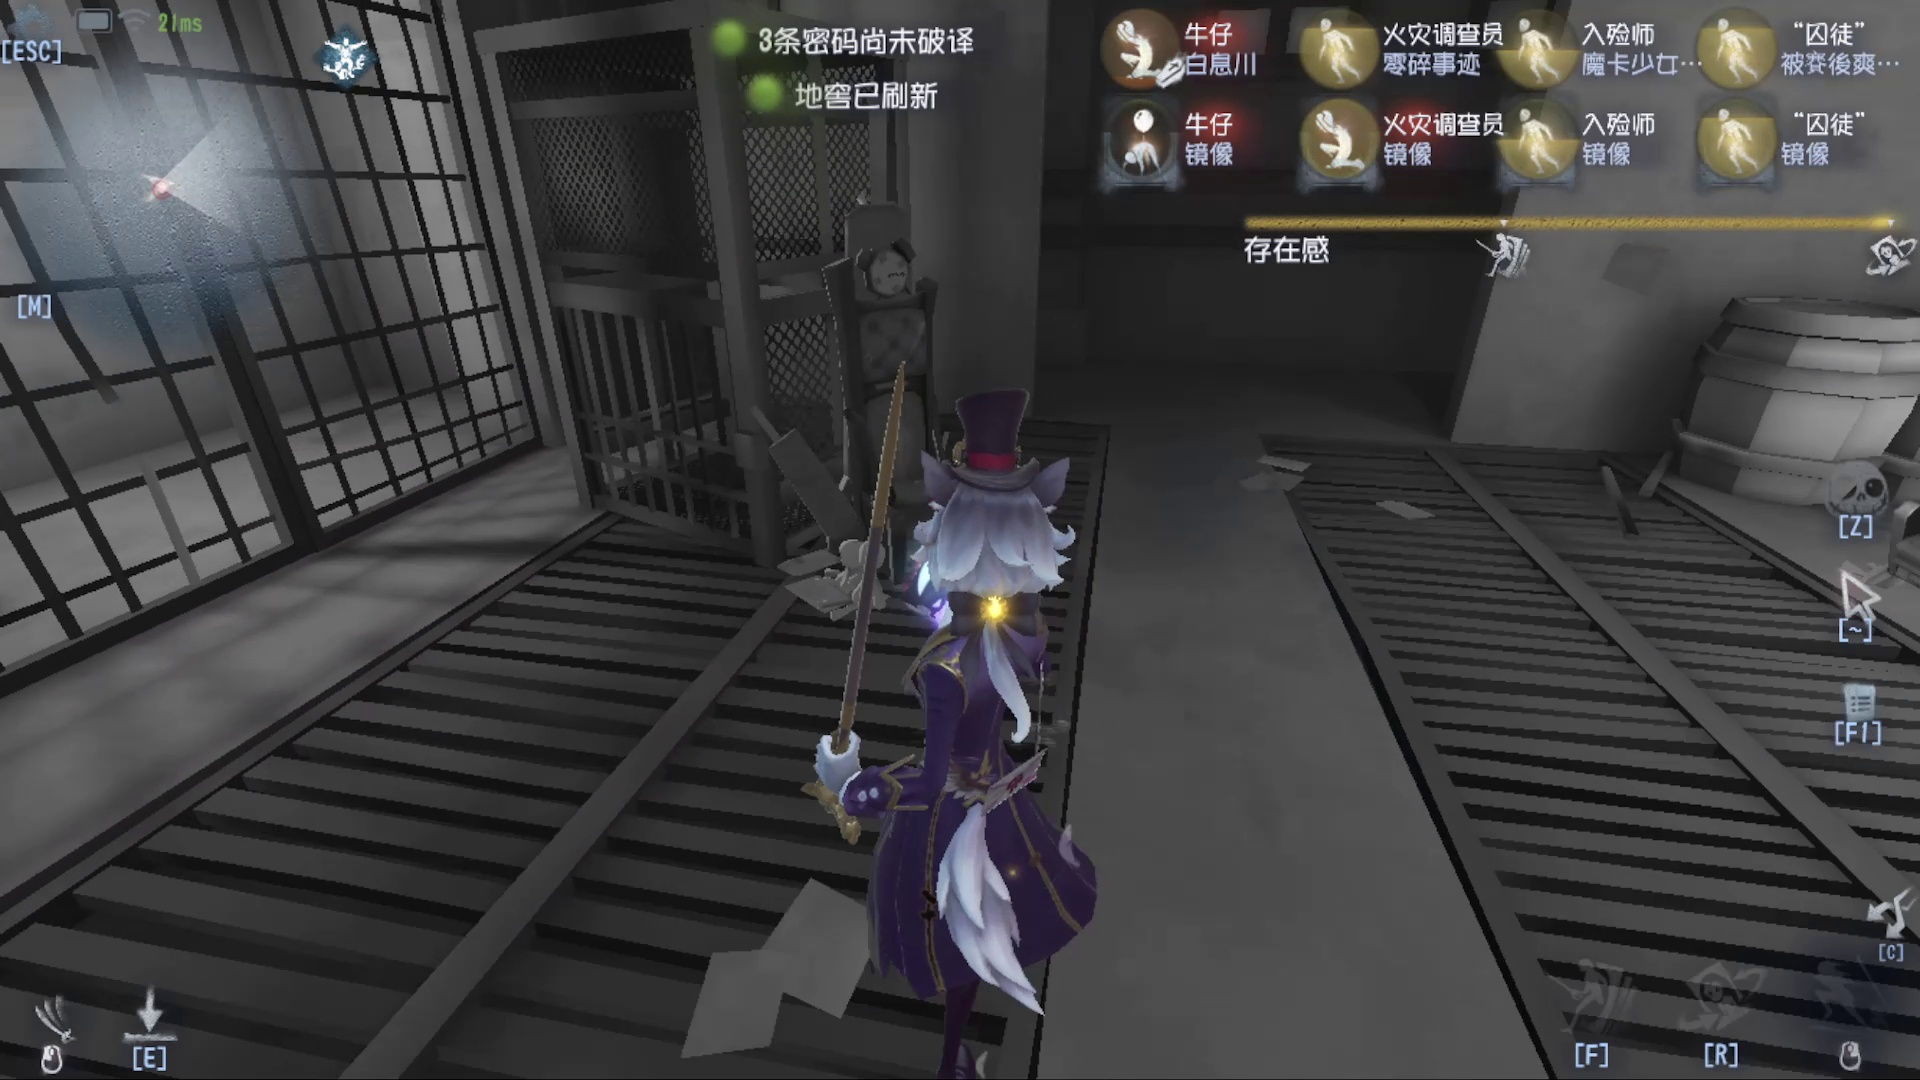狂欢之椅: (781, 191, 993, 597)
